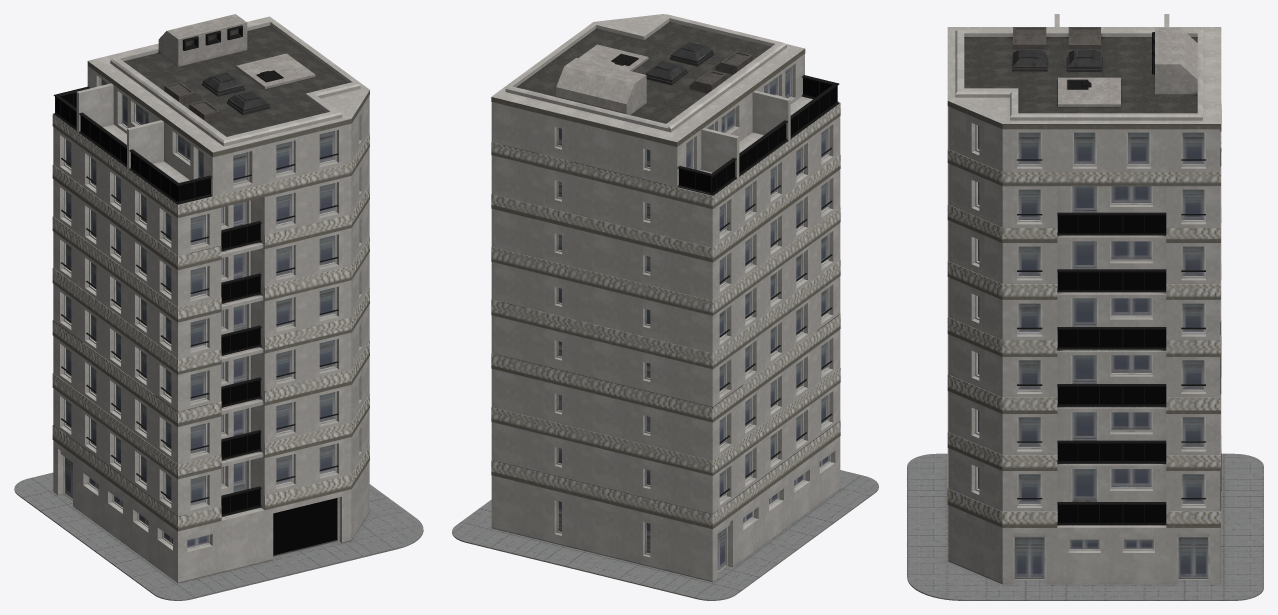
The model's file is bld22_10.glb.
The picture shows the model from 3 angles, left to right: view 1: azimuth 30°, elevation 25°; view 2: azimuth 150°, elevation 25°; view 3: azimuth 270°, elevation 25°; orthographic projection. The views are drawn at different scales.
Visible parts, largest first — view 1: bld22_10; view 2: bld22_10; view 3: bld22_10.
Boxes of the visible parts, x1,y1,x2,y2 form: bld22_10: (14,14,423,600); bld22_10: (452,14,878,600); bld22_10: (907,14,1263,600).
Bounding box in the file's own units: 35.52 × 55.96 × 36.68.
Materials: 1 (1 with a texture image).
